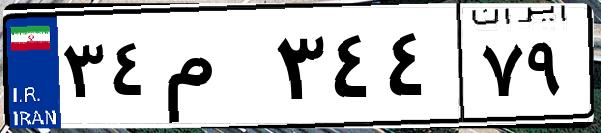3: (270, 28, 330, 110), (57, 26, 110, 100)
4: (385, 28, 445, 110), (330, 28, 385, 110), (110, 28, 158, 98)
7: (475, 38, 525, 113)
9: (525, 38, 570, 115)
م: (158, 20, 270, 120)
